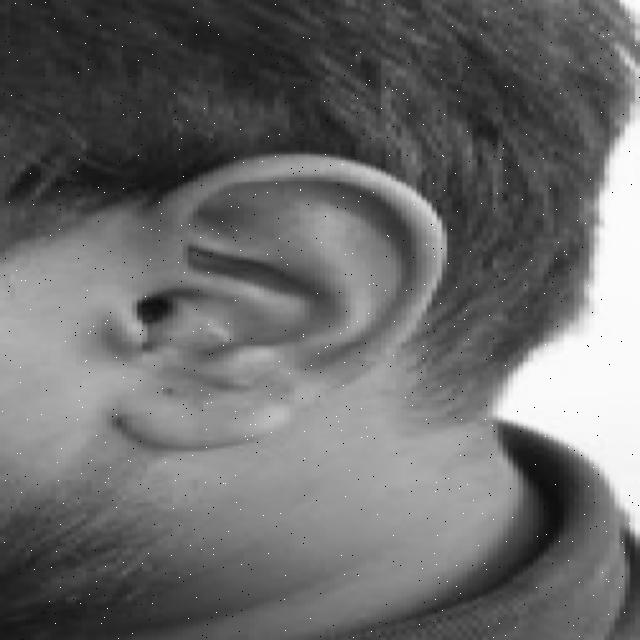ear: (122, 151, 437, 446)
